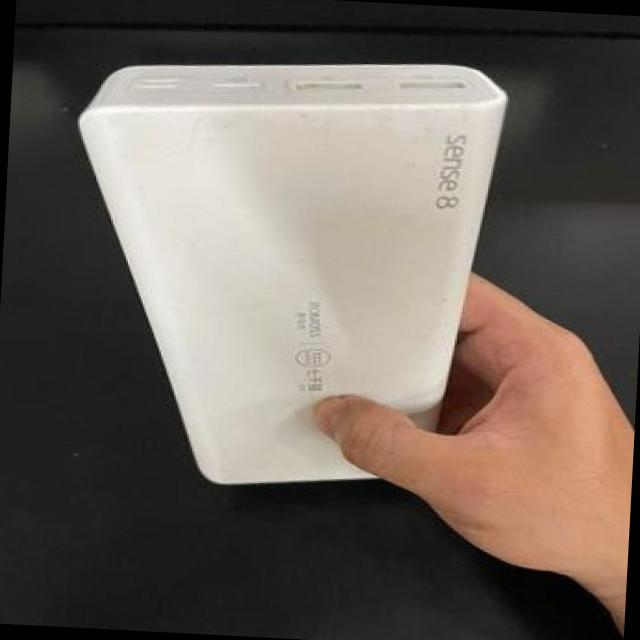power_bank: (49, 31, 532, 508)
